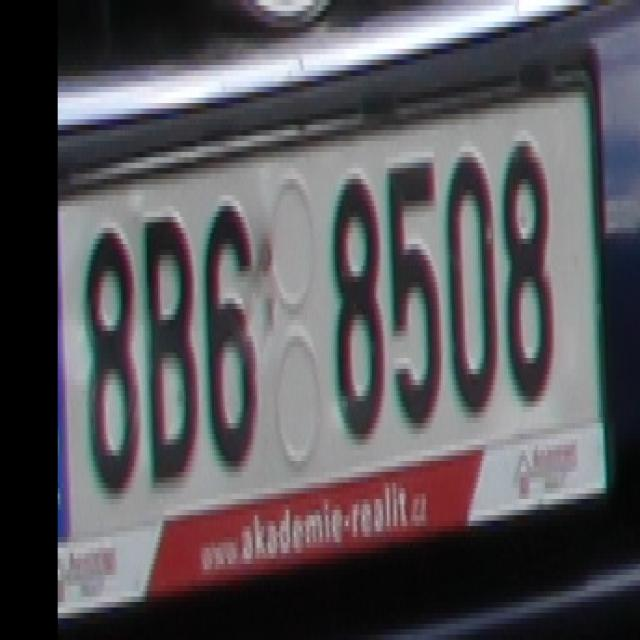0: (444, 146, 498, 428)
5: (387, 157, 441, 423)
6: (203, 184, 260, 472)
8: (84, 217, 140, 494), (498, 136, 554, 407), (331, 173, 387, 440)
B: (142, 206, 196, 488)
